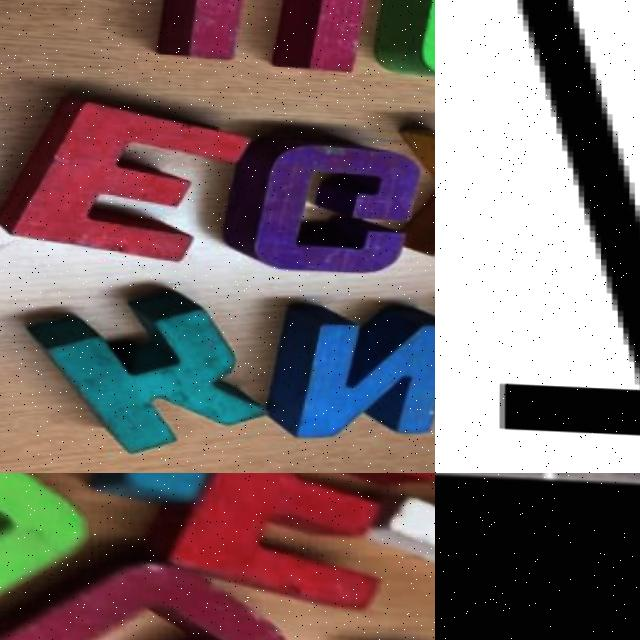C: (377, 0, 435, 88)
E: (116, 473, 435, 618), (0, 96, 247, 262)
G: (230, 122, 409, 279)
K: (45, 279, 266, 456)
N: (241, 290, 435, 434)
U: (0, 529, 334, 640), (139, 0, 383, 76)
X: (378, 112, 435, 259)
Z: (466, 0, 640, 446), (334, 473, 435, 589)
